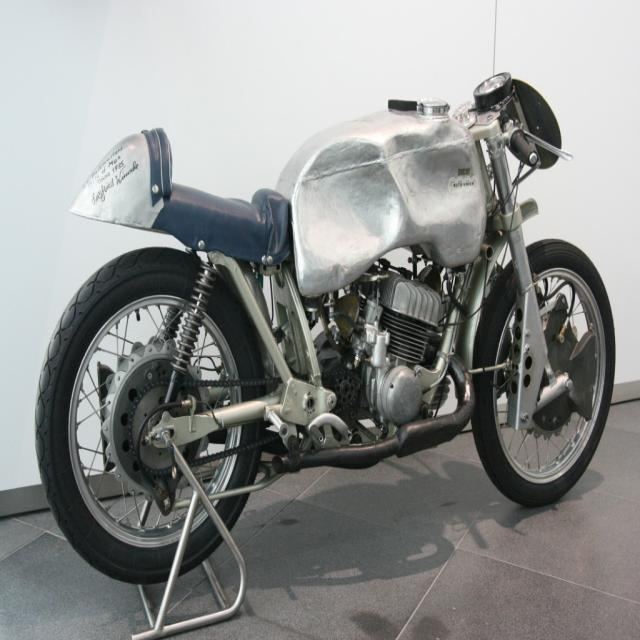Motorbikes: (29, 52, 621, 596)
